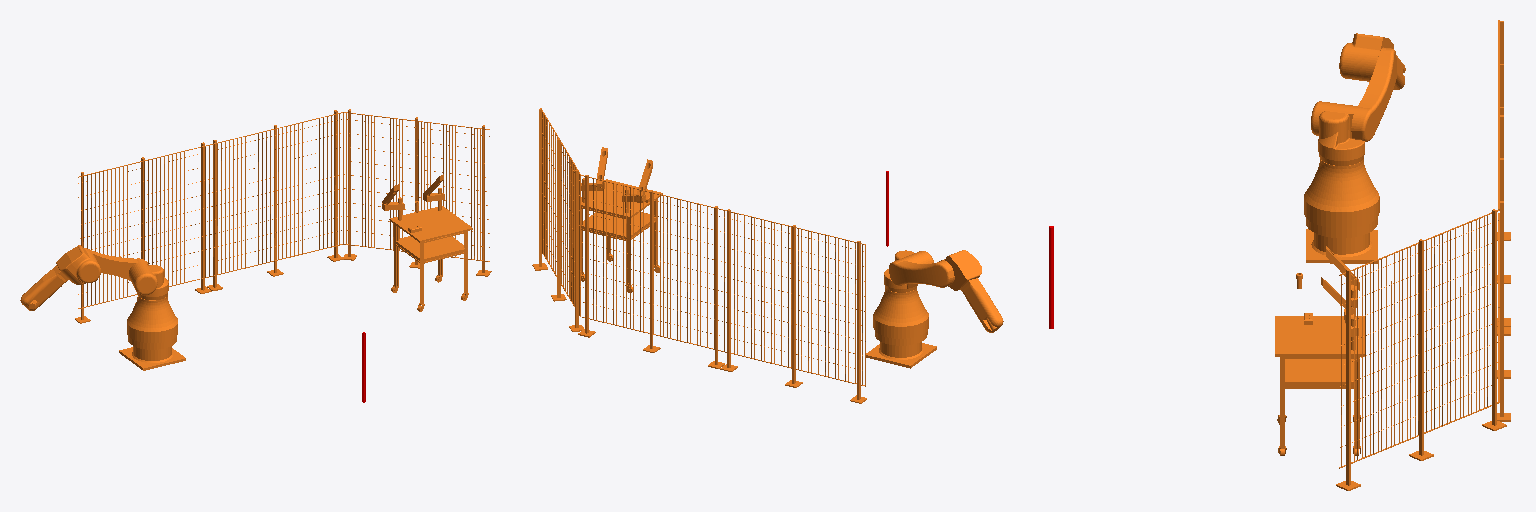
The robot description file, URDF, robot "GoldbarrenGroup":
<?xml version="1.0"?>
<!--Exported at 11.02.2026 15:20:35  -->
<!--by BIBA-->
<robot name="GoldbarrenGroup">
<material name="Metall - 1600F (heiß)">
    <color rgba="1 0.561 0.184 1" />
  </material>


<material name="red">
    <color rgba="1 0 0 1"/>
  </material>

<link name="base_link">
<visual>
    <origin xyz="0 0 0.5" rpy="0 0 0" />
      <geometry>
        <cylinder length="1" radius="0.02"/>
      </geometry>
   <material name="red"/>
    </visual>
  </link>
 
 
 <link name="GoldbarrenPart1:1">
    <visual>
     <origin xyz="0 0 0" rpy="0 0 0" />
      <geometry>  
            <mesh filename="../12345/GoldbarrenPart1_meter.stl"/>
      </geometry> 
         <material name="Metall - 1600F (heiß)" />
    </visual>
  </link>

 <link name="Stehtisch_meter:1">
    <visual>
     <origin xyz="0 0 0" rpy="0 0 0" />
      <geometry>  
            <mesh filename="../12345/Stehtisch_meter.stl"/>
 
      </geometry> 
         <material name="Metall - 1600F (heiß)" />
    </visual>
  </link>

<link name="schutzzaun_meter">
    <visual>
     <origin xyz="0 0 0" rpy="0 0 0" />
      <geometry>  
            <mesh filename="../12345/Fences/SafetyFence_2000x2100.stl"/> 
      </geometry> 
         <material name="Metall - 1600F (heiß)" />
    </visual>
  </link>

<link name="schutzzaun_meter2">
    <visual>
     <origin xyz="0 0 0" rpy="0 0 0" />
      <geometry>  
            <mesh filename="../12345/Fences/SafetyFence_2000x2100.stl"/>
 
      </geometry> 
         <material name="Metall - 1600F (heiß)" />
    </visual>
  </link>
<link name="schutzzaun_meter3">
    <visual>
     <origin xyz="0 0 0" rpy="0 0 0" />
      <geometry>  
            <mesh filename="../12345/Fences/SafetyFence_2000x2100.stl"/>
 
      </geometry> 
         <material name="Metall - 1600F (heiß)" />
    </visual>
  </link>

<link name="fanuc">
    <visual>
     <origin xyz="0 0 0" rpy="0 0 0" />
      <geometry>  
            <mesh filename="../12345/CR35ia/CR35ia_StaticDummy.stl"/>
 
      </geometry> 
         <material name="Metall - 1600F (heiß)" />
    </visual>
  </link>



 <joint type="fixed" name="Starr:1">
    <parent link="base_link"/>
    <child link="schutzzaun_meter"/>
    <origin xyz="0 4 0.2" rpy="0 0 0"/> 
  </joint>

 <joint type="fixed" name="Starr:2">
    <parent link="base_link"/>
    <child link="schutzzaun_meter2"/>
    <origin xyz="2 4 0.2" rpy="0 0 -0.8"/> 
  </joint>

  <joint type="fixed" name="Starr:3">
    <parent link="base_link"/>
    <child link="schutzzaun_meter3"/>
    <origin xyz="-2 4 0.2" rpy="0 0 0"/> 
  </joint>

  <joint type="fixed" name="Starr:5">
    <parent link="base_link"/>
    <child link="fanuc"/>
    <origin xyz="-2 2 0" rpy="0 0 0"/> 
  </joint>

  <joint name="base_to_right_leg" type="fixed">
    <parent link="Stehtisch_meter:1"/>
    <child link="GoldbarrenPart1:1"/>
    <origin xyz="0.1 0.3 1.05"/>
  </joint>

 <joint type="fixed" name="Starr:4">
    <parent link="base_link"/>
    <child link="Stehtisch_meter:1"/>
    <origin xyz="2 2 0" rpy="0 0 0"/> 
  </joint>


</robot>

--- What the picture shows (computed from the rendered views, not written in the file) ---
The picture shows the robot from 3 angles, left to right: view 1: azimuth 30°, elevation 25°; view 2: azimuth 150°, elevation 25°; view 3: azimuth 270°, elevation 25°; orthographic projection.
Robot: GoldbarrenGroup — 7 links, 6 joints (6 fixed); root link base_link; default pose: all joints at 0.
Links seen in each view (by area): view 1: fanuc, schutzzaun_meter, Stehtisch_meter:1, schutzzaun_meter3, schutzzaun_meter2; view 2: fanuc, schutzzaun_meter3, schutzzaun_meter, schutzzaun_meter2, Stehtisch_meter:1; view 3: fanuc, schutzzaun_meter2, Stehtisch_meter:1, schutzzaun_meter, schutzzaun_meter3.
Link boxes in pixels (x1,y1,x2,y2): fanuc: (20,245,185,370); schutzzaun_meter: (207,110,343,290); Stehtisch_meter:1: (382,174,472,311); schutzzaun_meter3: (75,142,211,323); schutzzaun_meter2: (343,109,491,276); fanuc: (866,250,1003,368); schutzzaun_meter3: (720,209,866,403); schutzzaun_meter: (578,175,724,368); schutzzaun_meter2: (532,108,583,331); Stehtisch_meter:1: (581,147,662,292); fanuc: (1304,33,1405,263); schutzzaun_meter2: (1336,209,1506,490); Stehtisch_meter:1: (1275,246,1364,455); schutzzaun_meter: (1497,115,1510,421); schutzzaun_meter3: (1497,20,1510,326).
Size in the robot's own frame: 6.85 by 4.13 by 2.13 metres.
Meshes: 4 distinct files referenced, 6 mesh visuals loaded (4 ASCII STL).
